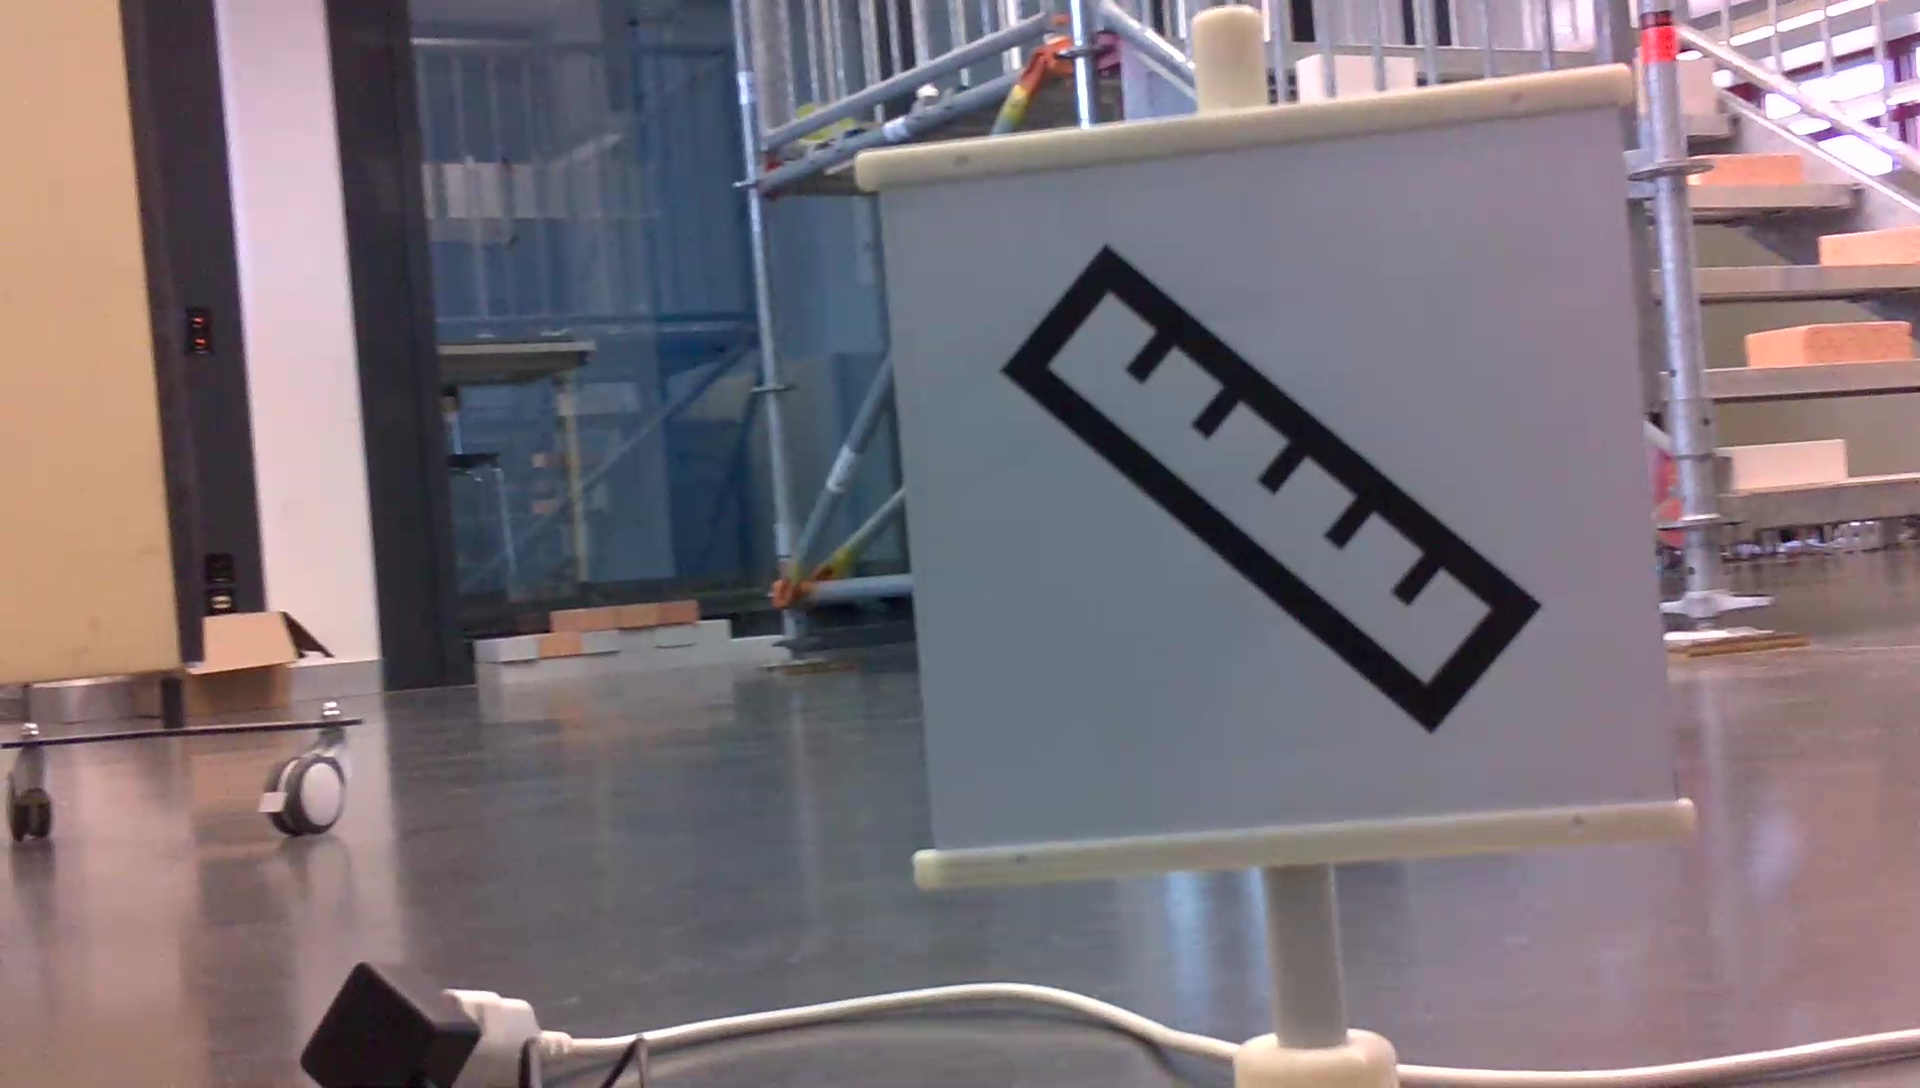brick: (1712, 430, 1853, 487), (1749, 320, 1920, 363), (1693, 146, 1801, 194), (1817, 235, 1920, 270)
ruler: (994, 229, 1557, 742)
